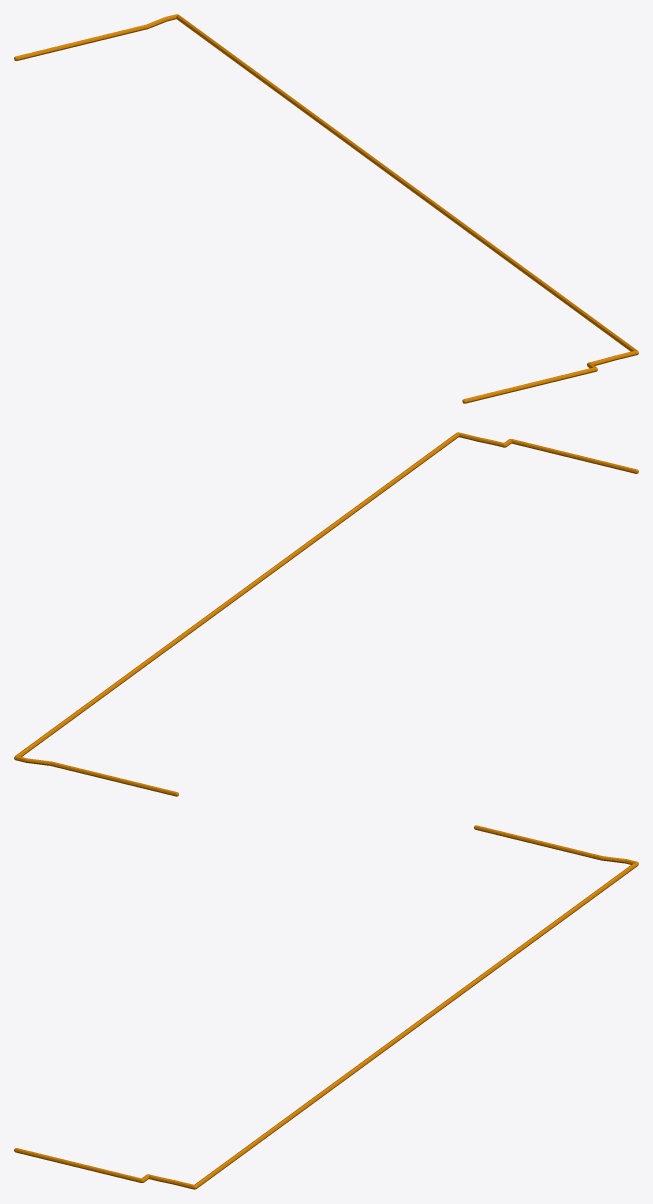
3 views of the same model, one above another, from view 1: azimuth 30°, elevation 25°; view 2: azimuth 150°, elevation 25°; view 3: azimuth 330°, elevation 25° (orthographic). The views are drawn at different scales.
Size of the model in its own units: 839 by 20 by 3724.
